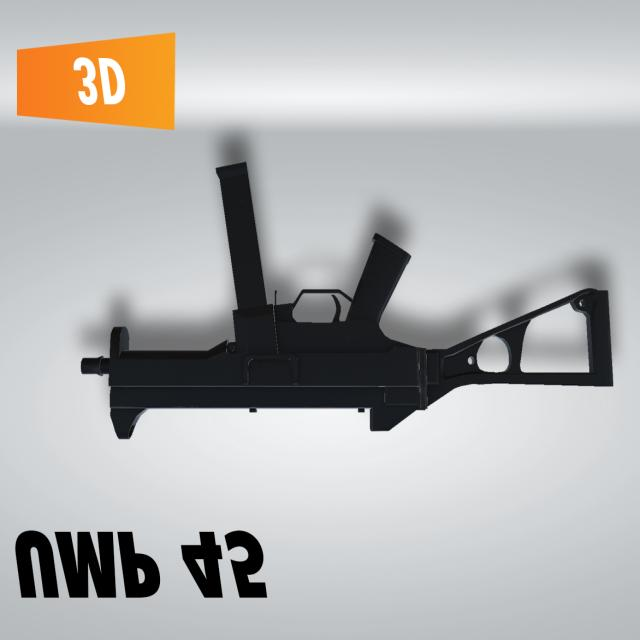Gun: (107, 134, 624, 446)
